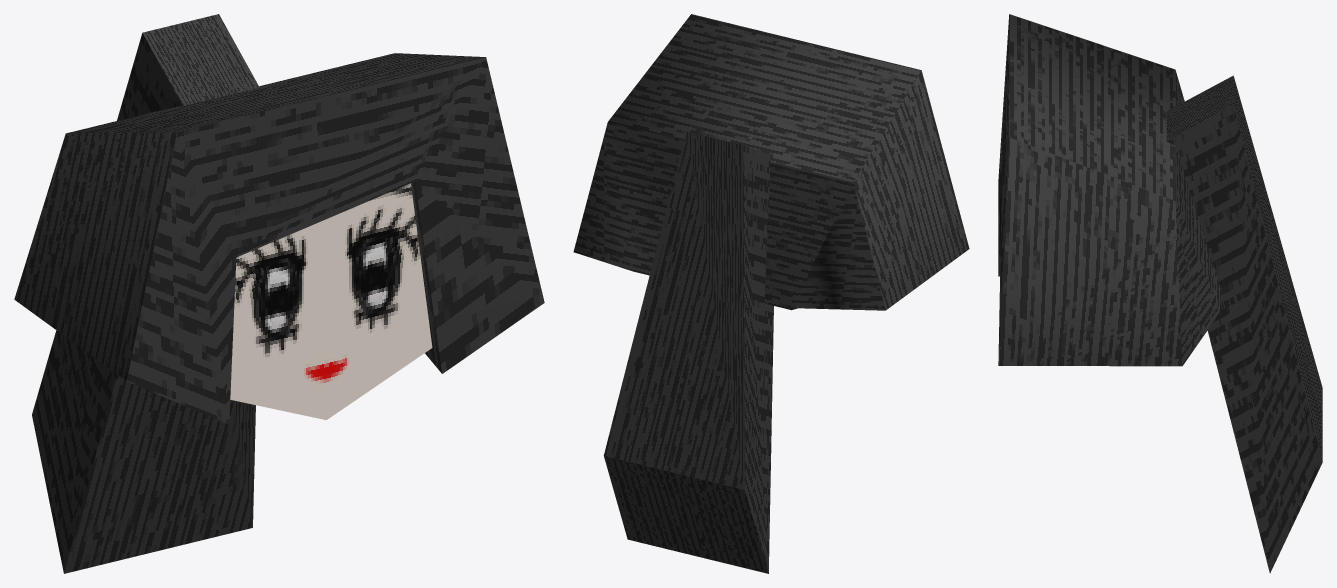
File: C_GH_Head_F8.FBX
The picture shows the model from 3 angles, left to right: view 1: azimuth 30°, elevation 25°; view 2: azimuth 150°, elevation 25°; view 3: azimuth 270°, elevation 25°; orthographic projection. The views are drawn at different scales.
Visible parts, largest first — view 1: Hair, Face; view 2: Hair; view 3: Hair.
Part boxes in pixels (x1,y1,x2,y2): Hair: (14,14,544,573); Face: (230,183,432,420); Hair: (573,14,969,573); Hair: (998,14,1322,573).
Bounding box in the file's own units: 33.15 × 43.13 × 27.17.
2 materials, 2 textured.
